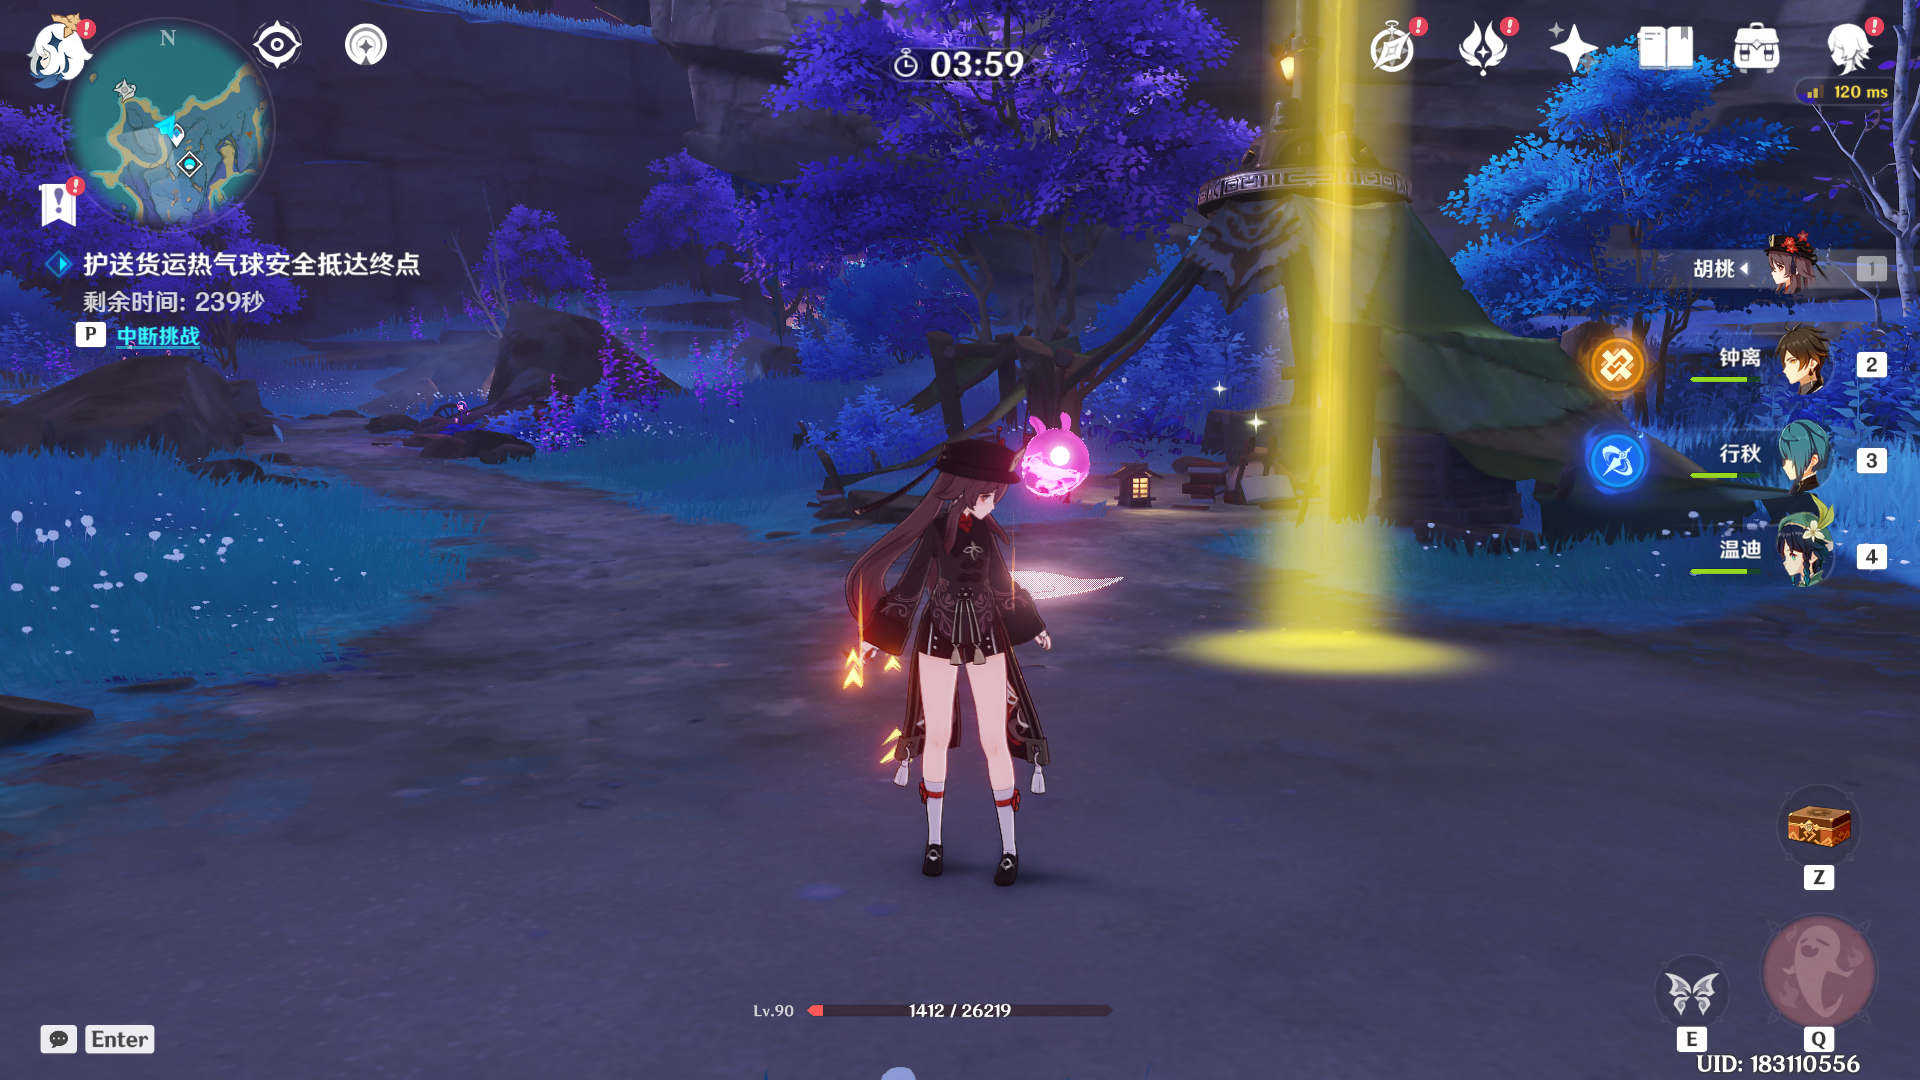character: (794, 409, 1120, 963)
